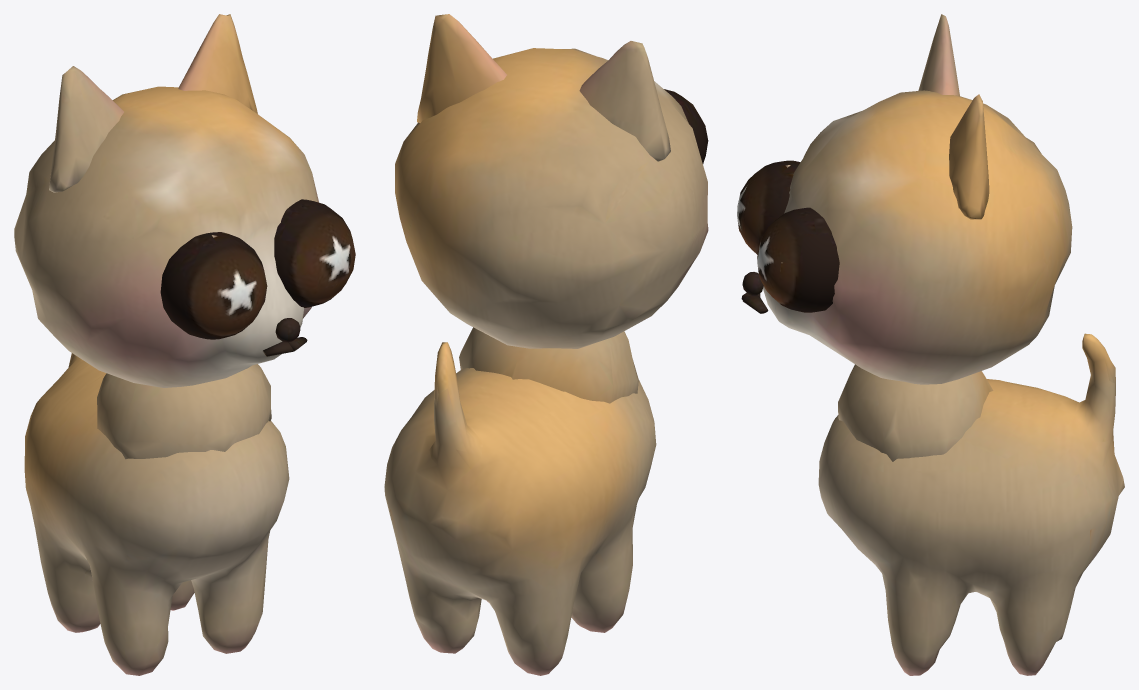
The model's file is qchibi_normalized.glb.
3 renders of one model, left to right at view 1: azimuth 30°, elevation 25°; view 2: azimuth 150°, elevation 25°; view 3: azimuth 270°, elevation 25°, orthographic. The views are drawn at different scales.
Visible parts, largest first — view 1: part_body, part_neck, part_ears; view 2: part_body, part_ears, part_neck; view 3: part_body, part_neck, part_ears.
Part boxes in pixels (x1,y1,x2,y2): part_body: [14, 86, 355, 675]; part_neck: [97, 364, 271, 459]; part_ears: [49, 14, 257, 192]; part_body: [384, 48, 708, 675]; part_ears: [417, 14, 670, 161]; part_neck: [459, 327, 638, 403]; part_body: [737, 90, 1124, 675]; part_neck: [838, 364, 993, 461]; part_ears: [918, 14, 989, 219].
Bounding box in the file's own units: 0.9342 × 1.99 × 1.18.
2 materials, 2 textured.
